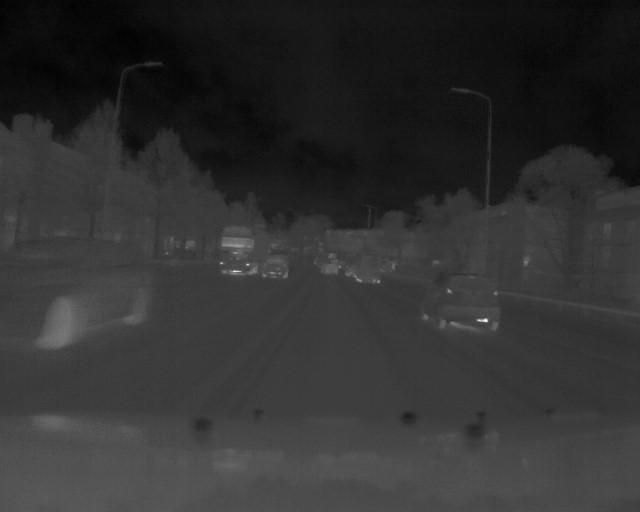car: (1, 235, 156, 352), (419, 271, 504, 334), (216, 225, 261, 277), (261, 254, 292, 282)
